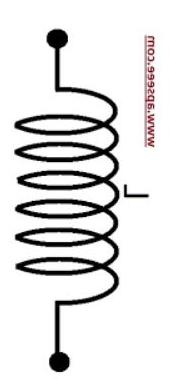inductor: (1, 64, 120, 327)
